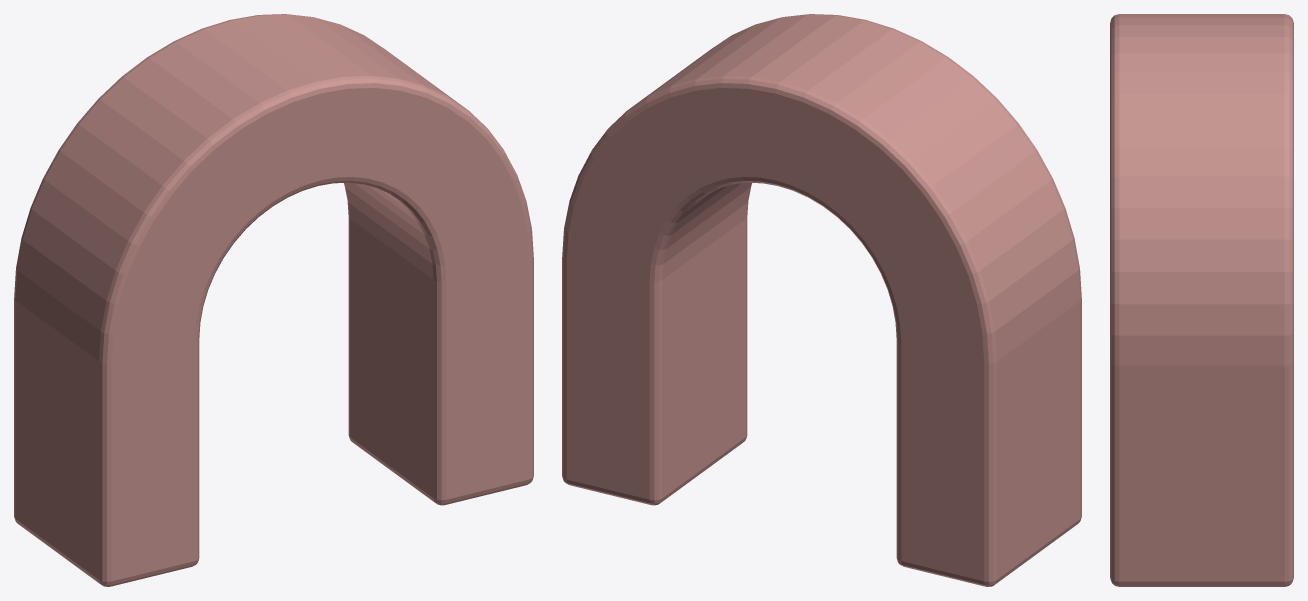
Rendered from prop-arch.glb.
3 renders of one model, left to right at view 1: azimuth 30°, elevation 25°; view 2: azimuth 150°, elevation 25°; view 3: azimuth 270°, elevation 25°, orthographic.
Visible parts, largest first — view 1: Open ceramic arch; view 2: Open ceramic arch; view 3: Open ceramic arch.
Part boxes in pixels (x1,y1,x2,y2): Open ceramic arch: (14,14,533,586); Open ceramic arch: (562,14,1081,586); Open ceramic arch: (1110,14,1293,586).
Size of the model in its own units: 0.7 by 0.7 by 0.26.
